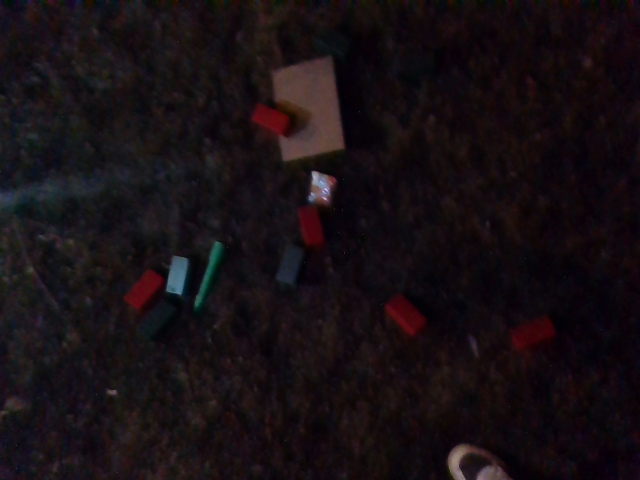Probe: (188, 232, 224, 310)
